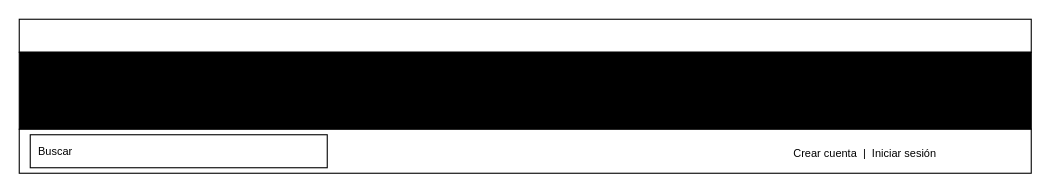
This 1051x193 diagram has some shape labels left out. The shapes that lost their labels are listed below. From the top down, each one's centre as x and y in pixels, then its label:
At point (524, 35): "ENVÍOS A TODO EL PAÍS".
At point (524, 90): "W I L D C A R D".
